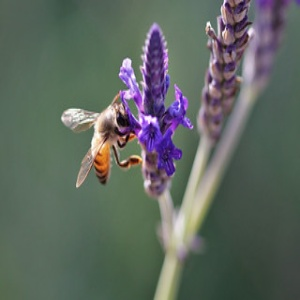bee: (67, 91, 140, 195)
